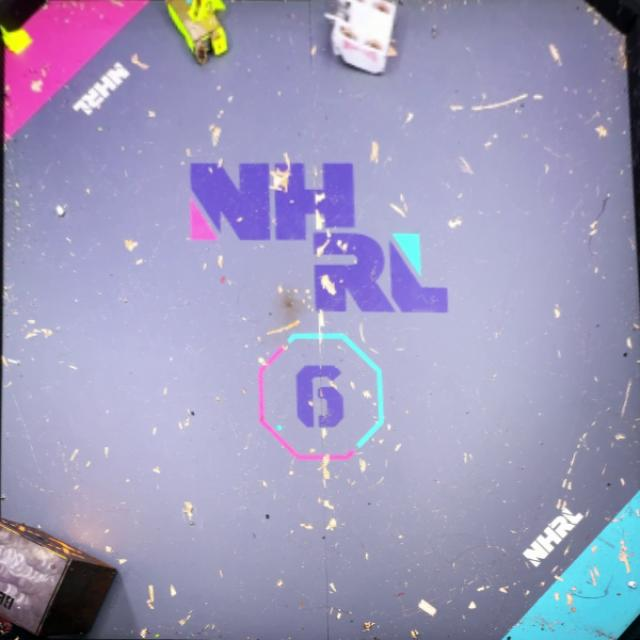housebot: (0, 512, 127, 640)
robot: (324, 0, 405, 79), (161, 0, 235, 67)
